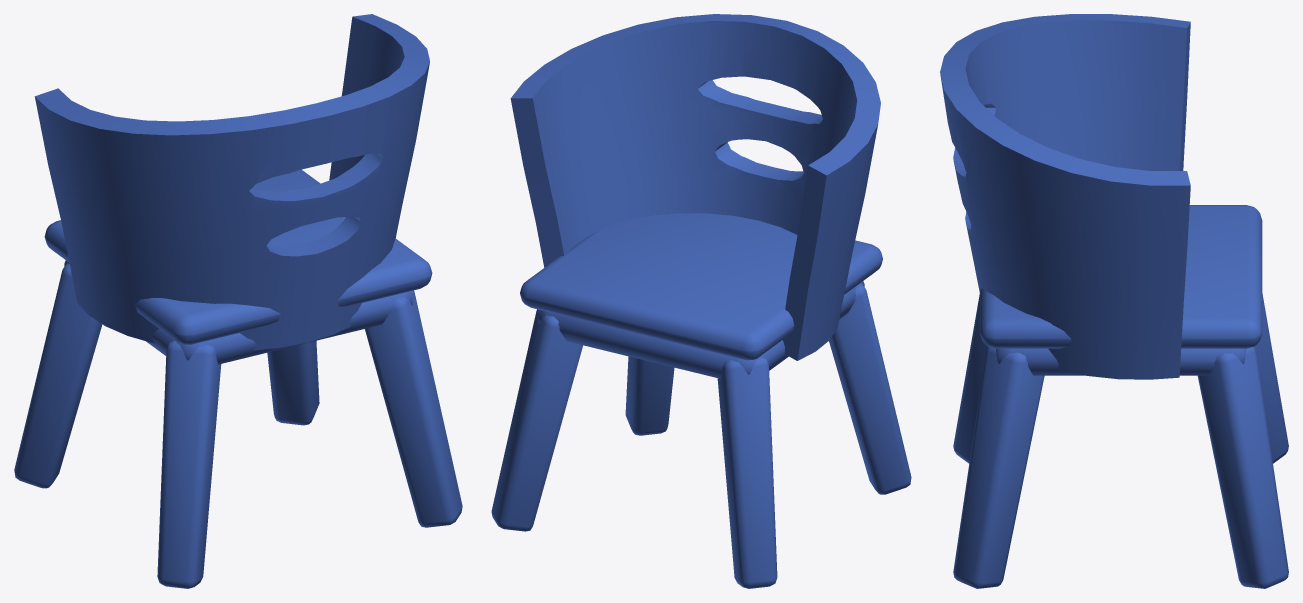
The model's file is chair_plastic.glb.
3 renders of one model, left to right at view 1: azimuth 30°, elevation 25°; view 2: azimuth 150°, elevation 25°; view 3: azimuth 270°, elevation 25°, orthographic. The views are drawn at different scales.
Parts seen in each view (by area): view 1: chair_plastic__BluePlastic; view 2: chair_plastic__BluePlastic; view 3: chair_plastic__BluePlastic.
Part boxes in pixels (bbox=[...]): chair_plastic__BluePlastic: bbox=[14, 14, 462, 588]; chair_plastic__BluePlastic: bbox=[491, 14, 911, 588]; chair_plastic__BluePlastic: bbox=[940, 14, 1288, 588].
Bounding box in the file's own units: 0.6236 × 0.782 × 0.5441.
